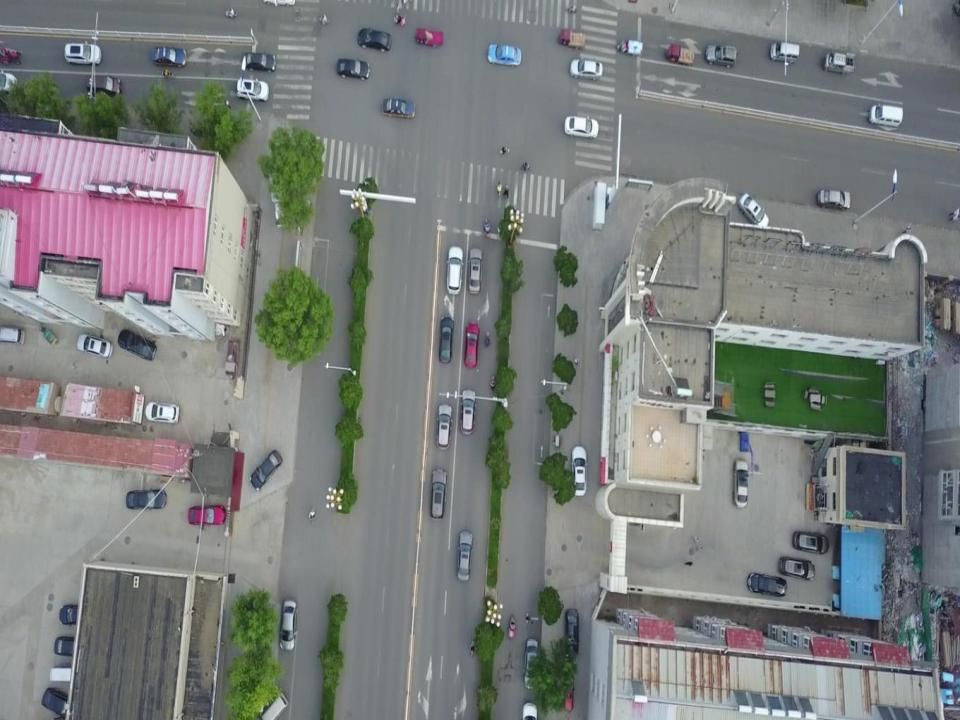car: (40, 686, 82, 720), (250, 449, 282, 491), (117, 329, 157, 362), (738, 193, 768, 231), (747, 571, 788, 597), (278, 600, 299, 650), (777, 555, 815, 581), (64, 40, 102, 65), (125, 488, 166, 511), (188, 504, 227, 528), (76, 332, 112, 358), (571, 445, 589, 496), (86, 73, 122, 98), (430, 469, 447, 521), (357, 27, 391, 53), (792, 530, 830, 553), (236, 76, 270, 101), (152, 44, 187, 68), (487, 43, 522, 67), (457, 530, 473, 582), (706, 43, 738, 69), (523, 638, 539, 689), (145, 400, 179, 424), (336, 57, 370, 81), (447, 246, 464, 294), (564, 115, 598, 139), (733, 458, 749, 508), (463, 321, 480, 368), (570, 57, 603, 81), (460, 389, 477, 435), (818, 187, 850, 211), (436, 405, 453, 450), (382, 97, 416, 119), (468, 248, 484, 294), (59, 605, 94, 626), (564, 609, 580, 654), (439, 316, 454, 364), (54, 636, 88, 656), (244, 51, 276, 71), (0, 324, 25, 344), (564, 676, 576, 710)
truck: (268, 162, 295, 229), (823, 50, 856, 75)
van: (260, 690, 288, 720), (869, 103, 903, 127), (770, 41, 800, 64), (49, 664, 86, 682)
